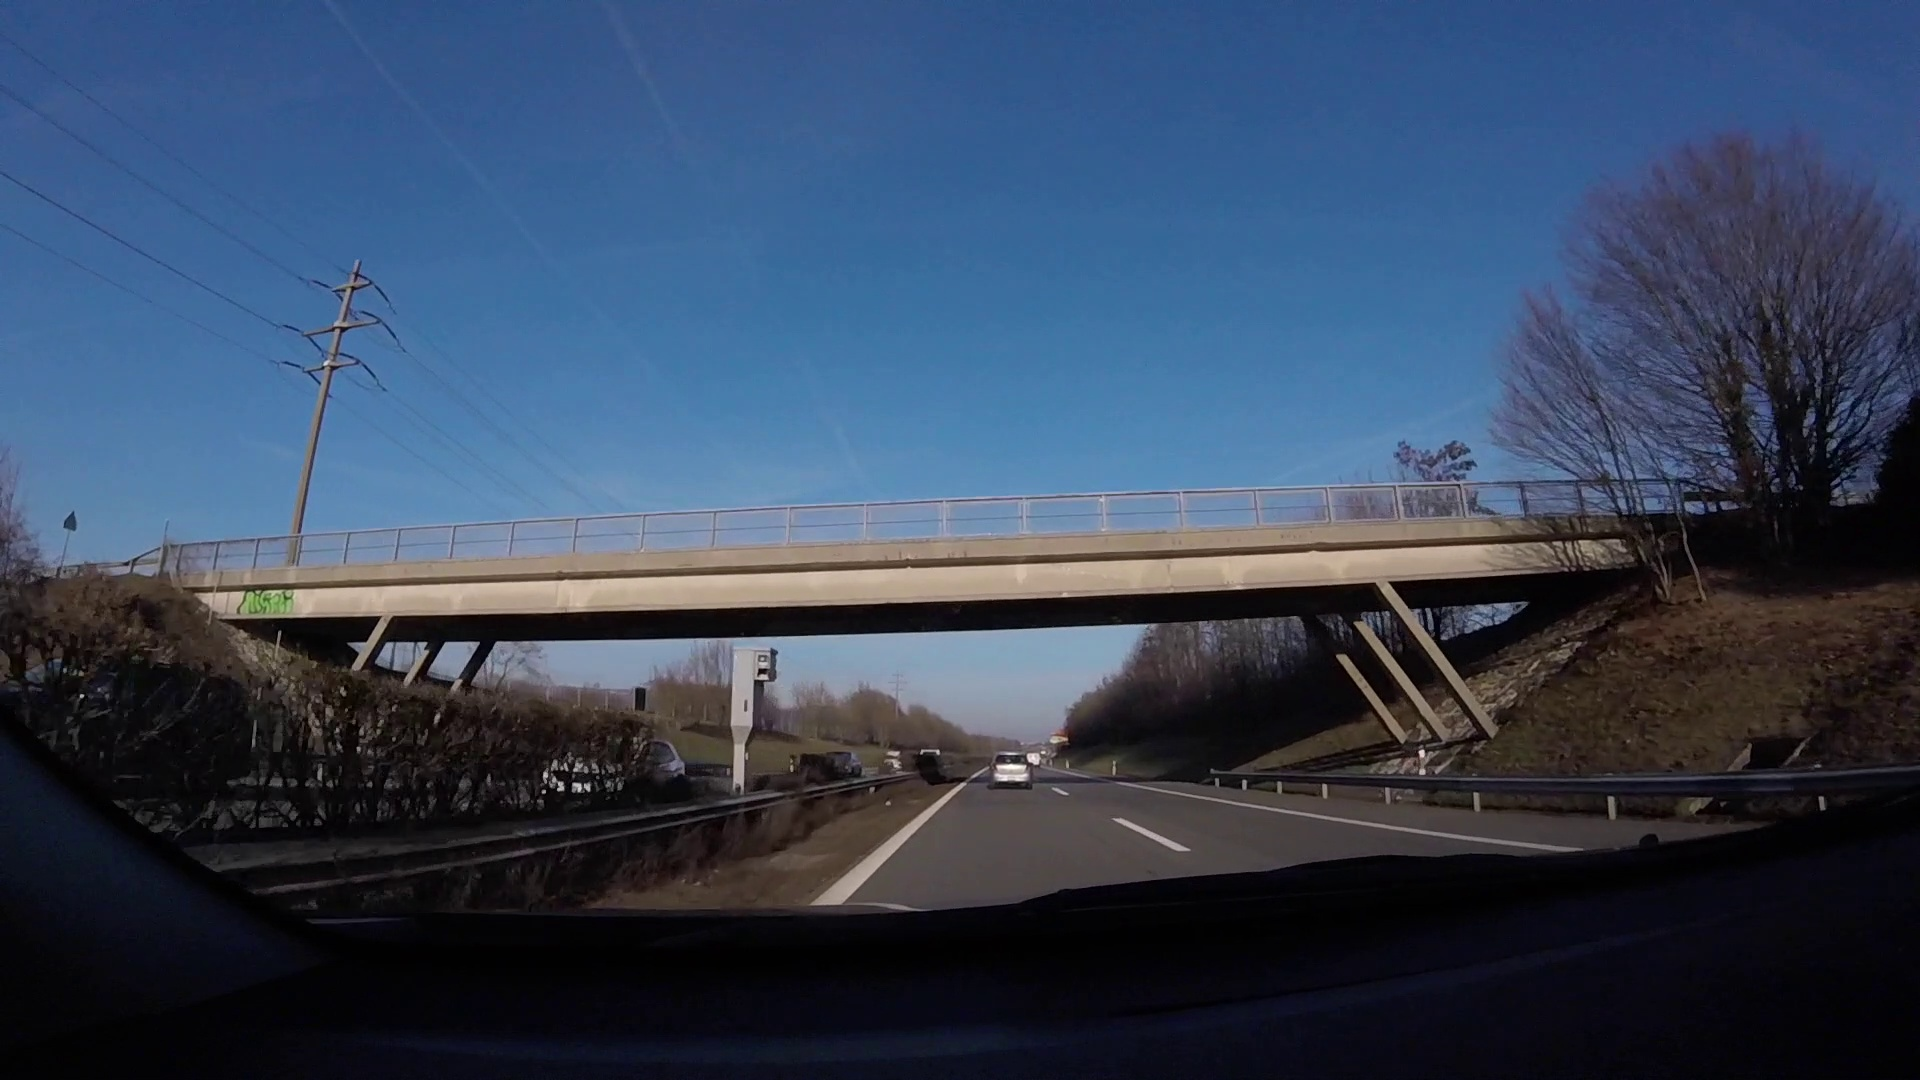radar: (731, 644, 781, 796)
